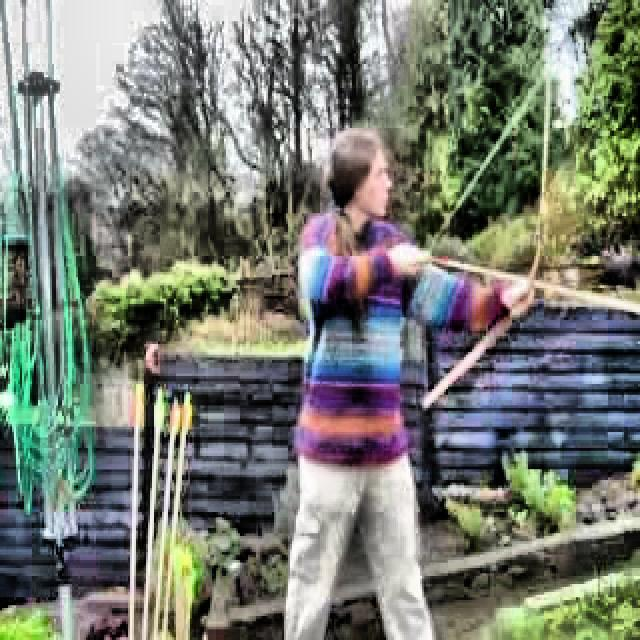I: (277, 113, 534, 640)
